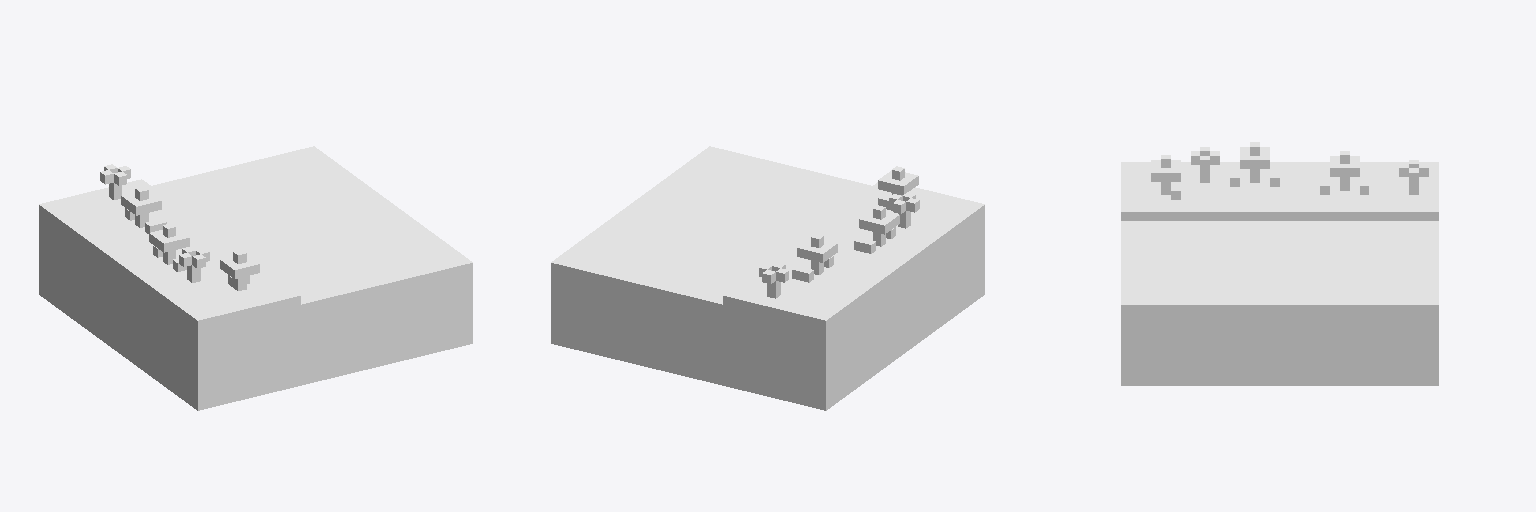
Rendered from Overworld_Ocean_11.obj.
3 views of the same model, side by side, from view 1: azimuth 30°, elevation 25°; view 2: azimuth 150°, elevation 25°; view 3: azimuth 270°, elevation 25° (orthographic).
Parts seen in each view (by area): view 1: object 1; view 2: object 1; view 3: object 1.
Boxes of the visible parts, x1=… form: object 1: x1=39, y1=146, x2=472, y2=410; object 1: x1=551, y1=146, x2=984, y2=410; object 1: x1=1121, y1=142, x2=1438, y2=385.
Bounding box in the file's own units: 3.2 × 1.4 × 3.2.